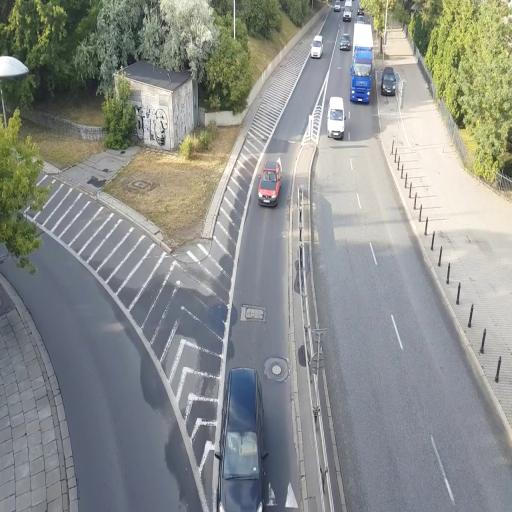vehicle: (220, 367, 262, 510), (350, 18, 374, 104), (258, 157, 282, 207), (328, 97, 345, 140), (381, 68, 399, 96), (310, 36, 324, 59), (340, 32, 351, 52)
